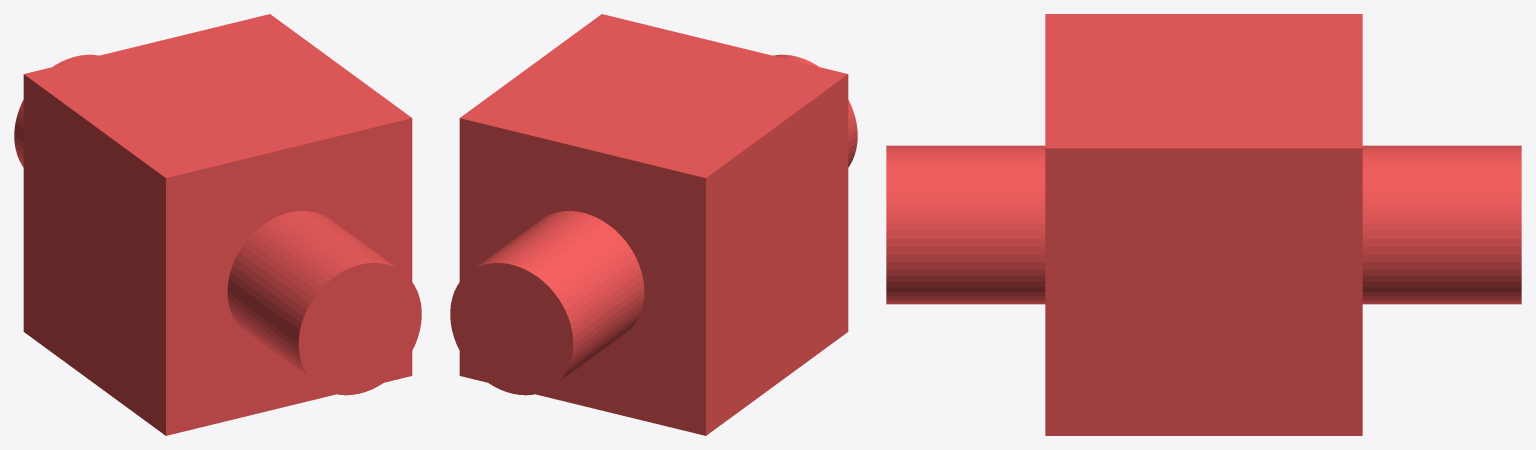
The model's file is axle.glb.
The picture shows the model from 3 angles, left to right: view 1: azimuth 30°, elevation 25°; view 2: azimuth 150°, elevation 25°; view 3: azimuth 270°, elevation 25°; orthographic projection. The views are drawn at different scales.
Bounding box in the file's own units: 100 × 100 × 200.
